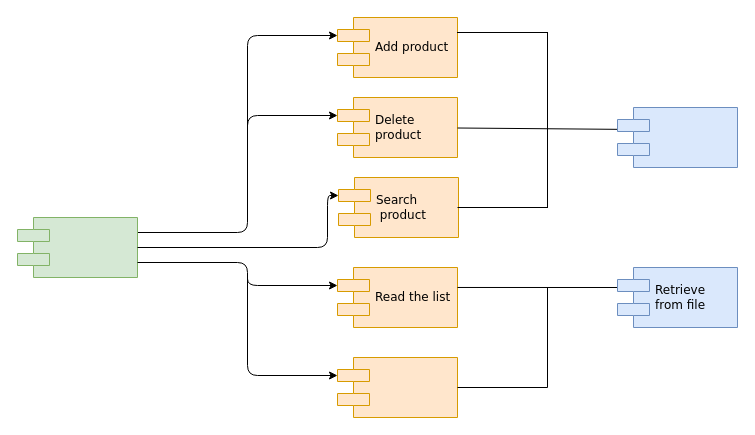
Image size: 755x435. Some labels were removed from this diagram. Each missing label, with the centre of its shape:
Edit the list: (x=397, y=387)
Product ordering: (x=77, y=247)
Write into file: (x=677, y=137)
